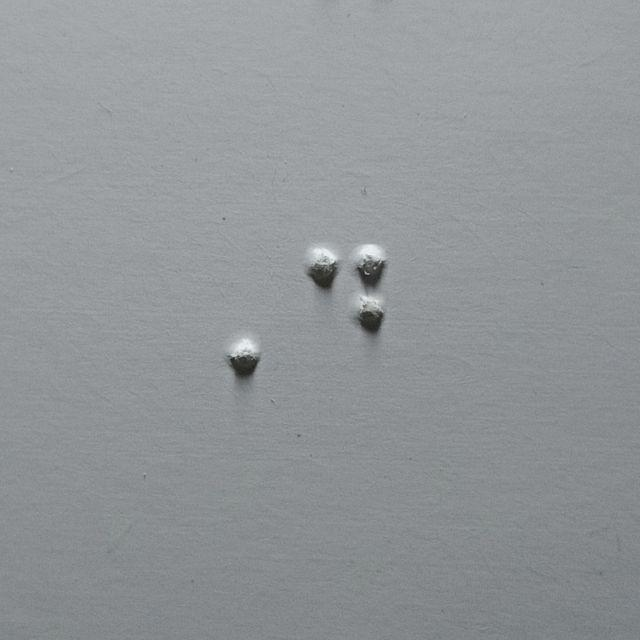D: (306, 245, 388, 379)
capital: (180, 246, 262, 380)
